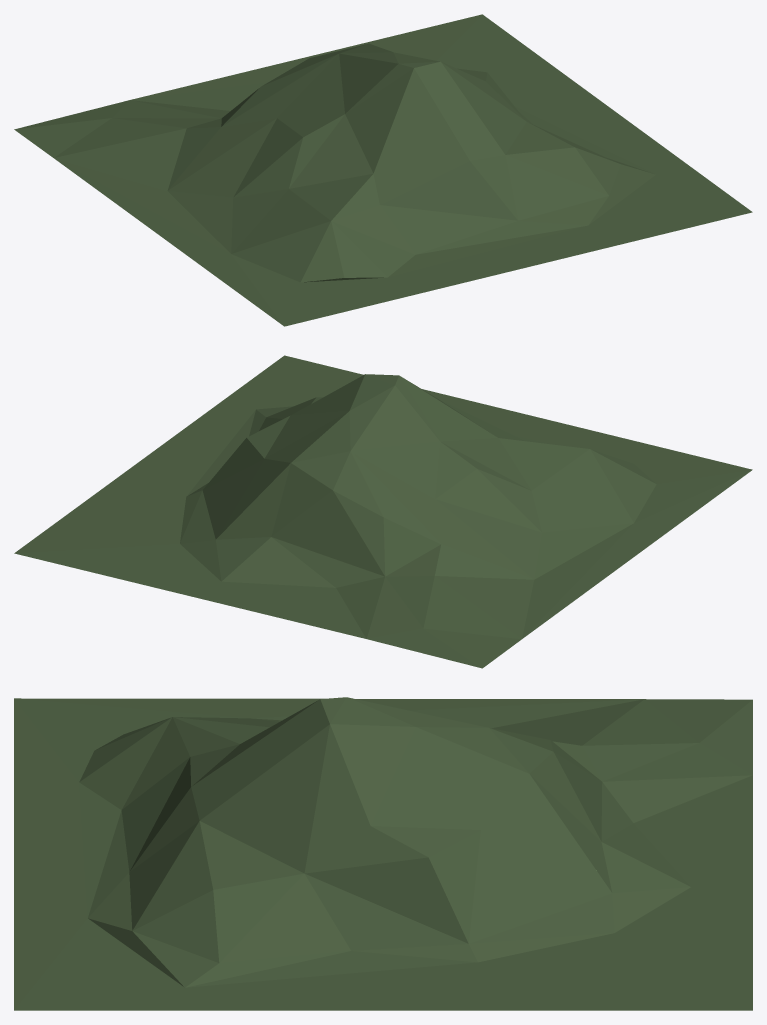
Rendered from LowPolyTerrain1.fbx.
3 renders of one model, top to bottom at view 1: azimuth 30°, elevation 25°; view 2: azimuth 150°, elevation 25°; view 3: azimuth 270°, elevation 25°, orthographic. The views are drawn at different scales.
Visible parts, largest first — view 1: Plane; view 2: Plane; view 3: Plane.
Part boxes in pixels (x1,y1,x2,y2): Plane: (14, 14, 752, 326); Plane: (14, 355, 752, 668); Plane: (14, 697, 752, 1010).
Bounding box in the file's own units: 2000 × 483 × 2000.
